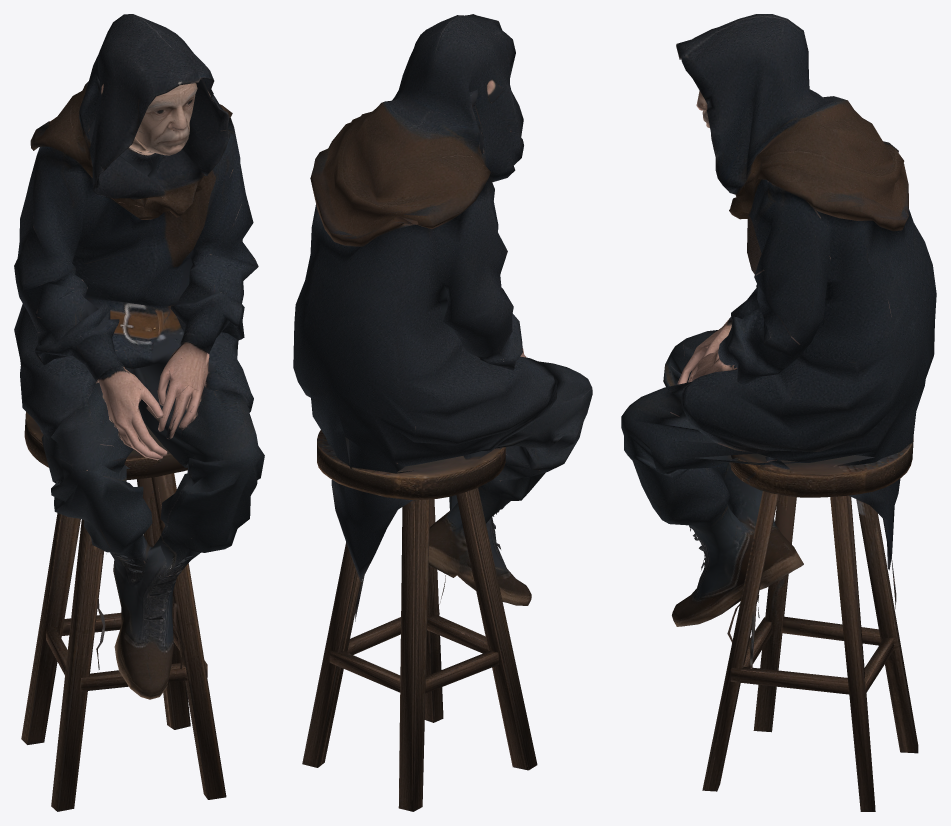
Rendered from caretaker.glb.
The picture shows the model from 3 angles, left to right: view 1: azimuth 30°, elevation 25°; view 2: azimuth 150°, elevation 25°; view 3: azimuth 270°, elevation 25°; orthographic projection. The views are drawn at different scales.
Size of the model in its own units: 0.2998 by 0.9512 by 0.3628.
Materials: 1 (1 with a texture image).
